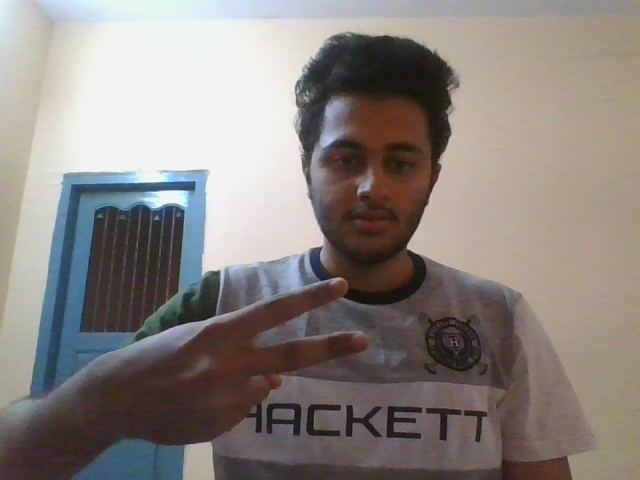Peace: (106, 275, 371, 449)
